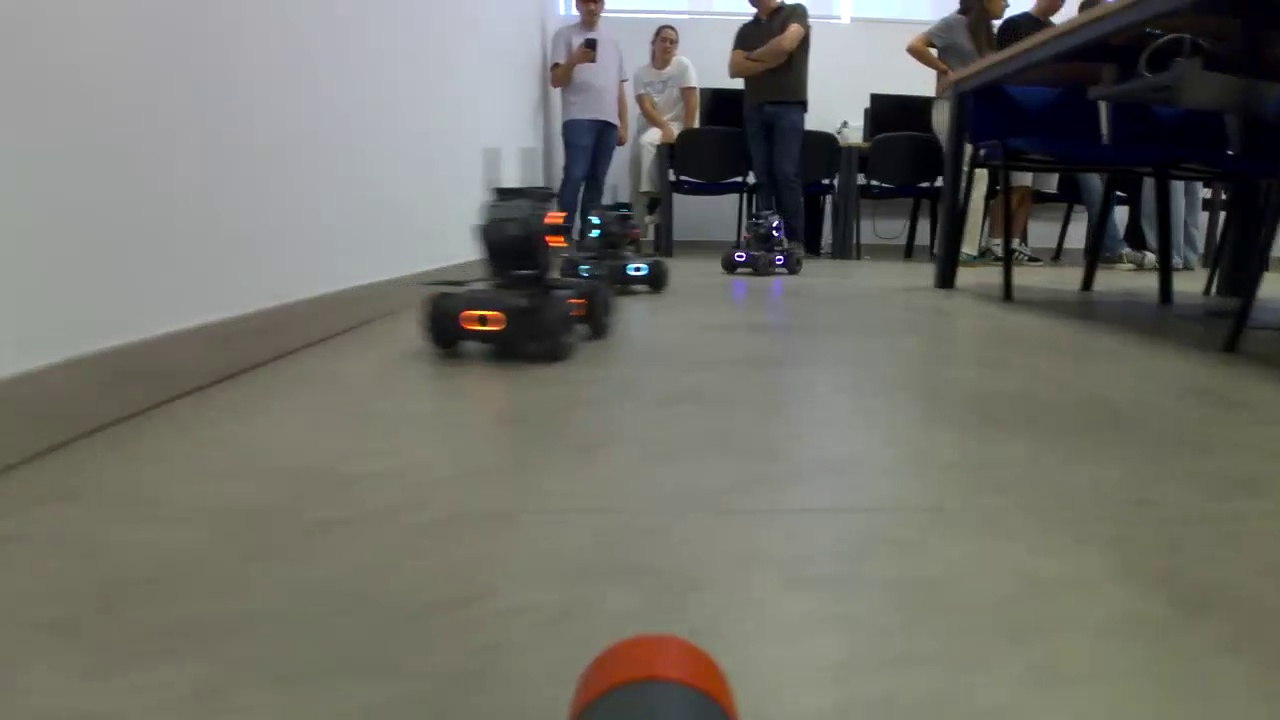robot: (428, 178, 619, 370), (589, 200, 670, 303), (722, 203, 796, 274)
